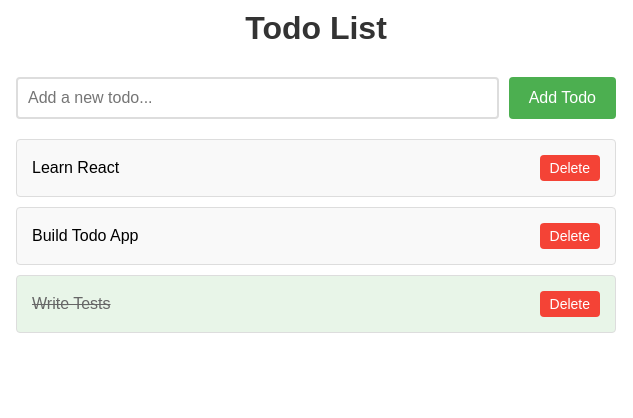
Test: TodoList Component › handles multiple todo operations correctly
This screenshot has width=633, height=418.
Type "Test Todo" into the field with placeholder "Add a new todo..." at (257, 98), box [16, 77, 499, 119]
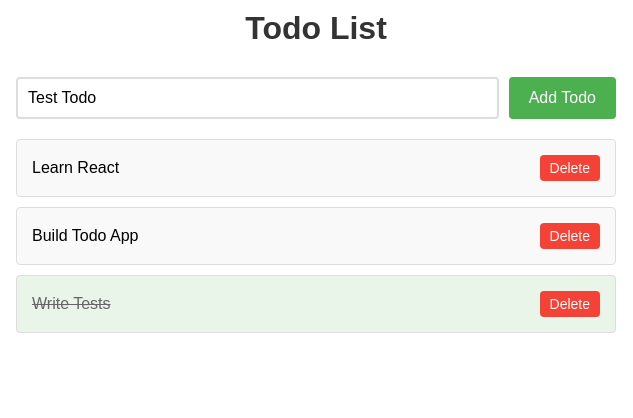
Click the button "Add Todo" at (562, 98), box [509, 77, 616, 119]
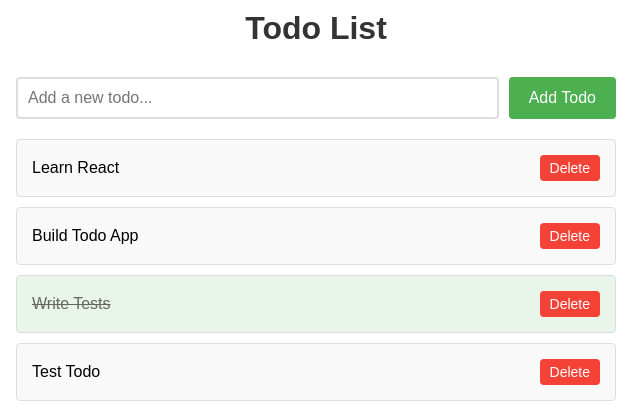
Check: the number of list items is 4, box [16, 139, 616, 197]; [16, 207, 616, 265]; [16, 275, 616, 333]; [16, 343, 616, 401]
Click the text "Test Todo" at (66, 372), box [32, 363, 100, 380]
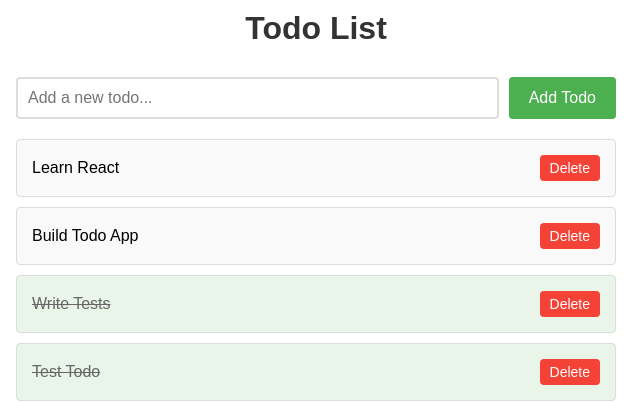
Check: the list item "Test Todo Delete" has class "completed", box [16, 343, 616, 401]
Click the button "Delete" in the row of "Write Tests" at (570, 304), box [540, 291, 600, 317]
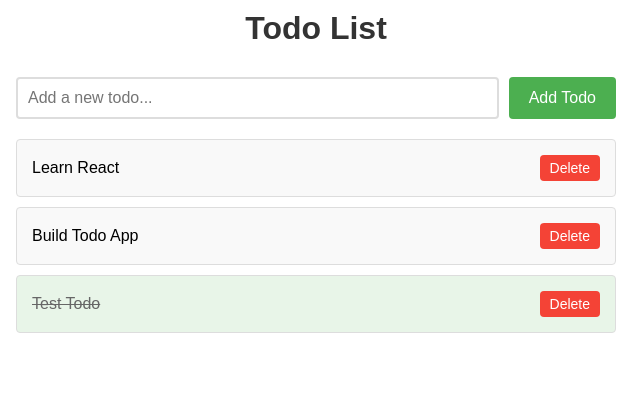
Check: the text "Test Todo" is shown, box [32, 295, 100, 312]
Check: the number of list items is 3, box [16, 139, 616, 197]; [16, 207, 616, 265]; [16, 275, 616, 333]
Check: the text "Write Tests" is gone
